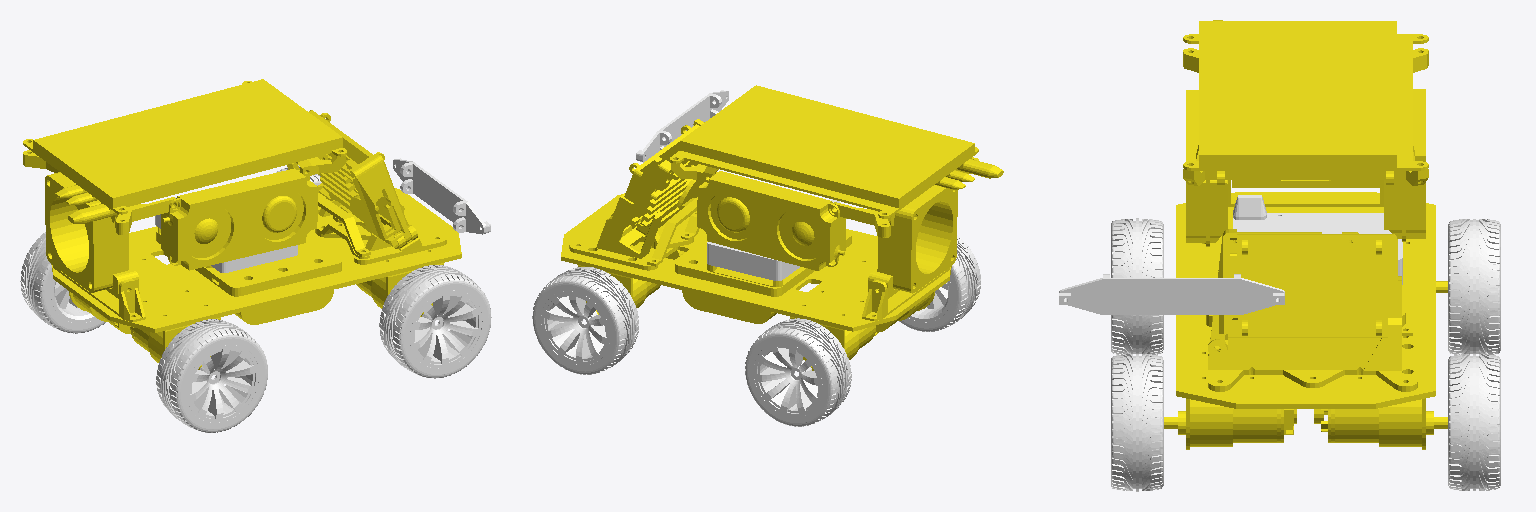
URDF robot description (mycar_f):
<?xml version="1.0" encoding="utf-8"?>
<!-- This URDF was automatically created by SolidWorks to URDF Exporter! Originally created by Stephen Brawner (brawner@gmail.com) 
     Commit Version: 1.6.0-4-g7f85cfe  Build Version: 1.6.7995.38578
     For more information, please see http://wiki.ros.org/sw_urdf_exporter -->
<robot
  name="mycar_f">
  <!-- base_footprint: 地面投影参考系，Nav2/导航必需 -->
  <link name="base_footprint"/>
  <joint name="base_footprint_joint" type="fixed">
    <origin xyz="0 0 0" rpy="0 0 0"/>
    <parent link="base_footprint"/>
    <child link="base_link"/>
  </joint>
  <link
    name="base_link">
    <inertial>
      <origin
        xyz="-0.021287034327229 -0.000459393616553533 0.0268665416203777"
        rpy="0 0 0" />
      <mass
        value="0.794048324498282" />
      <inertia
        ixx="0.000500345047312004"
        ixy="-9.71787774585254E-06"
        ixz="-7.76743070609034E-06"
        iyy="0.00106866210986134"
        iyz="1.31832103465237E-07"
        izz="0.0014266502647222" />
    </inertial>
    <visual>
      <origin
        xyz="0 0 0"
        rpy="0 0 0" />
      <geometry>
        <mesh
          filename="package://mycar_f/meshes/base_link.STL" />
      </geometry>
      <material
        name="">
        <color
          rgba="1 0.937254901960784 0.137254901960784 1" />
      </material>
    </visual>
    <collision>
      <origin
        xyz="0 0 0"
        rpy="0 0 0" />
      <geometry>
        <mesh
          filename="package://mycar_f/meshes/base_link.STL" />
      </geometry>
    </collision>
  </link>
  <link
    name="fl_Link">
    <inertial>
      <origin
        xyz="-9.57077664343053E-09 -0.00156153692384933 7.75982818071452E-08"
        rpy="0 0 0" />
      <mass
        value="0.0602360435541665" />
      <inertia
        ixx="2.53242937942621E-05"
        ixy="1.22610066007238E-12"
        ixz="6.53429634770204E-09"
        iyy="4.43444324003584E-05"
        iyz="1.15989031559013E-11"
        izz="2.53152024087449E-05" />
    </inertial>
    <visual>
      <origin
        xyz="0 0 0"
        rpy="0 0 0" />
      <geometry>
        <mesh
          filename="package://mycar_f/meshes/fl_Link.STL" />
      </geometry>
      <material
        name="">
        <color
          rgba="1 1 1 1" />
      </material>
    </visual>
    <collision>
      <origin
        xyz="0 0 0"
        rpy="0 0 0" />
      <geometry>
        <mesh
          filename="package://mycar_f/meshes/fl_Link.STL" />
      </geometry>
    </collision>
  </link>
  <joint
    name="fl_joint"
    type="continuous">
    <origin
      xyz="0.0798194347596028 0.0869188013040223 -0.0315000000000085"
      rpy="0 0 0" />
    <parent
      link="base_link" />
    <child
      link="fl_Link" />
    <axis
      xyz="0 1 0" />
  </joint>
  <link
    name="fr_Link">
    <inertial>
      <origin
        xyz="2.88510850626755E-08 0.00156153690159229 -6.92092243029241E-08"
        rpy="0 0 0" />
      <mass
        value="0.0602360431220676" />
      <inertia
        ixx="2.53280674316329E-05"
        ixy="7.08137795150446E-11"
        ixz="8.4782191987224E-10"
        iyy="4.43431918315865E-05"
        iyz="3.53046428172515E-11"
        izz="2.53100643030645E-05" />
    </inertial>
    <visual>
      <origin
        xyz="0 0 0"
        rpy="0 0 0" />
      <geometry>
        <mesh
          filename="package://mycar_f/meshes/fr_Link.STL" />
      </geometry>
      <material
        name="">
        <color
          rgba="1 1 1 1" />
      </material>
    </visual>
    <collision>
      <origin
        xyz="0 0 0"
        rpy="0 0 0" />
      <geometry>
        <mesh
          filename="package://mycar_f/meshes/fr_Link.STL" />
      </geometry>
    </collision>
  </link>
  <joint
    name="fr_joint"
    type="continuous">
    <origin
      xyz="0.0798194347596027 -0.0862811986959776 -0.0315000000000083"
      rpy="0 0 0" />
    <parent
      link="base_link" />
    <child
      link="fr_Link" />
    <axis
      xyz="0 1 0" />
  </joint>
  <link
    name="br_Link">
    <inertial>
      <origin
        xyz="-6.04187070096796E-08 0.00156153689670808 4.44043245714787E-08"
        rpy="0 0 0" />
      <mass
        value="0.0602360431222151" />
      <inertia
        ixx="2.53225260329944E-05"
        ixy="-4.24482918525899E-11"
        ixz="8.35309615853201E-09"
        iyy="4.43431918316024E-05"
        iyz="-6.67772473183943E-11"
        izz="2.53156057017221E-05" />
    </inertial>
    <visual>
      <origin
        xyz="0 0 0"
        rpy="0 0 0" />
      <geometry>
        <mesh
          filename="package://mycar_f/meshes/br_Link.STL" />
      </geometry>
      <material
        name="">
        <color
          rgba="1 1 1 1" />
      </material>
    </visual>
    <collision>
      <origin
        xyz="0 0 0"
        rpy="0 0 0" />
      <geometry>
        <mesh
          filename="package://mycar_f/meshes/br_Link.STL" />
      </geometry>
    </collision>
  </link>
  <joint
    name="br_joint"
    type="continuous">
    <origin
      xyz="-0.0801805652407043 -0.0862811986962533 -0.0314999999999937"
      rpy="0 0 0" />
    <parent
      link="base_link" />
    <child
      link="br_Link" />
    <axis
      xyz="0 1 0" />
  </joint>
  <link
    name="bl_Link">
    <inertial>
      <origin
        xyz="-5.8451738949028E-08 -0.00156153690472458 -4.69702902058944E-08"
        rpy="0 0 0" />
      <mass
        value="0.0602360431222136" />
      <inertia
        ixx="2.53232334042162E-05"
        ixy="4.52892047873951E-11"
        ixz="-8.02362749678216E-09"
        iyy="4.43431918316008E-05"
        iyz="-6.48832864821719E-11"
        izz="2.53148983304986E-05" />
    </inertial>
    <visual>
      <origin
        xyz="0 0 0"
        rpy="0 0 0" />
      <geometry>
        <mesh
          filename="package://mycar_f/meshes/bl_Link.STL" />
      </geometry>
      <material
        name="">
        <color
          rgba="1 1 1 1" />
      </material>
    </visual>
    <collision>
      <origin
        xyz="0 0 0"
        rpy="0 0 0" />
      <geometry>
        <mesh
          filename="package://mycar_f/meshes/bl_Link.STL" />
      </geometry>
    </collision>
  </link>
  <joint
    name="bl_joint"
    type="continuous">
    <origin
      xyz="-0.0801805652407041 0.0869188013037466 -0.0314999999999934"
      rpy="0 0 0" />
    <parent
      link="base_link" />
    <child
      link="bl_Link" />
    <axis
      xyz="0 1 0" />
  </joint>
  <link
    name="imu_Link">
    <inertial>
      <origin
        xyz="-0.000362122873642002 -0.0230500268686498 0.00768491749214834"
        rpy="0 0 0" />
      <mass
        value="0.0722083122758556" />
      <inertia
        ixx="4.53945384646085E-05"
        ixy="-8.74659310552189E-07"
        ixz="3.08950355789817E-07"
        iyy="2.05702697479786E-05"
        iyz="4.46643442891381E-07"
        izz="6.2963092786608E-05" />
    </inertial>
    <visual>
      <origin
        xyz="0 0 0"
        rpy="0 0 0" />
      <geometry>
        <mesh
          filename="package://mycar_f/meshes/imu_Link.STL" />
      </geometry>
      <material
        name="">
        <color
          rgba="1 1 1 1" />
      </material>
    </visual>
    <collision>
      <origin
        xyz="0 0 0"
        rpy="0 0 0" />
      <geometry>
        <mesh
          filename="package://mycar_f/meshes/imu_Link.STL" />
      </geometry>
    </collision>
  </link>
  <joint
    name="imu_joint"
    type="fixed">
    <origin
      xyz="-0.0175158882827639 0.0288188013043405 0.011"
      rpy="0 0 0" />
    <parent
      link="base_link" />
    <child
      link="imu_Link" />
    <axis
      xyz="0 0 0" />
  </joint>
  <link
    name="camera_Link">
    <inertial>
      <origin
        xyz="-0.00148372597791281 0.0350000000000001 0"
        rpy="0 0 0" />
      <mass
        value="0.00469695869809621" />
      <inertia
        ixx="4.56412048936354E-06"
        ixy="-3.22362353408096E-22"
        ixz="2.29313560959624E-24"
        iyy="1.4925456782321E-07"
        iyz="1.31842691588969E-21"
        izz="4.43679632395854E-06" />
    </inertial>
    <visual>
      <origin
        xyz="0 0 0"
        rpy="0 0 0" />
      <geometry>
        <mesh
          filename="package://mycar_f/meshes/camera_Link.STL" />
      </geometry>
      <material
        name="">
        <color
          rgba="1 1 1 1" />
      </material>
    </visual>
    <collision>
      <origin
        xyz="0 0 0"
        rpy="0 0 0" />
      <geometry>
        <mesh
          filename="package://mycar_f/meshes/camera_Link.STL" />
      </geometry>
    </collision>
  </link>
  <joint
    name="camera_joint"
    type="fixed">
    <origin
      xyz="0.0936947862405823 -0.0316811986946451 0.0440937058350375"
      rpy="3.14159 0 0" />
    <parent
      link="base_link" />
    <child
      link="camera_Link" />
    <axis
      xyz="0 0 0" />
  </joint>
</robot>

--- What the picture shows (computed from the rendered views, not written in the file) ---
Views: 3 orthographic renders of the robot side by side, from view 1: azimuth 30°, elevation 25°; view 2: azimuth 150°, elevation 25°; view 3: azimuth 270°, elevation 25°.
Model mycar_f with 8 links and 7 joints (4 continuous, 3 fixed), rooted at base_footprint, posed all joints at 0.
Links seen in each view (by area): view 1: base_link, br_Link, fr_Link, bl_Link, camera_Link, imu_Link; view 2: base_link, fl_Link, bl_Link, br_Link, imu_Link, camera_Link; view 3: base_link, camera_Link, fr_Link, fl_Link, bl_Link, br_Link, imu_Link.
Link boxes in pixels (box(x1,y1,x2,y2)): base_link: box(23, 79, 461, 369); br_Link: box(156, 319, 267, 432); fr_Link: box(379, 265, 491, 378); bl_Link: box(20, 232, 105, 333); camera_Link: box(393, 158, 490, 234); imu_Link: box(155, 187, 297, 272); base_link: box(561, 85, 1003, 370); fl_Link: box(532, 267, 638, 374); bl_Link: box(745, 318, 851, 426); br_Link: box(899, 235, 980, 331); imu_Link: box(707, 199, 839, 280); camera_Link: box(636, 90, 728, 162); base_link: box(1164, 20, 1447, 449); camera_Link: box(1059, 274, 1284, 314); fr_Link: box(1111, 354, 1163, 491); fl_Link: box(1448, 354, 1500, 490); bl_Link: box(1448, 219, 1500, 354); br_Link: box(1111, 218, 1163, 354); imu_Link: box(1233, 195, 1402, 284).
Size in the robot's own frame: 0.2832 by 0.2211 by 0.1596 metres.
7 mesh visuals loaded from 7 distinct referenced files (7 binary STL).
